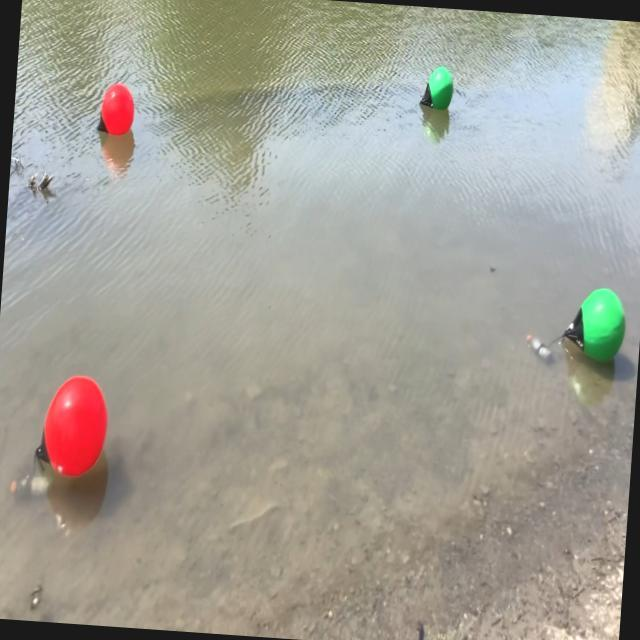buoy: (31, 368, 114, 484), (558, 282, 629, 372), (95, 76, 138, 147), (418, 60, 457, 120)
